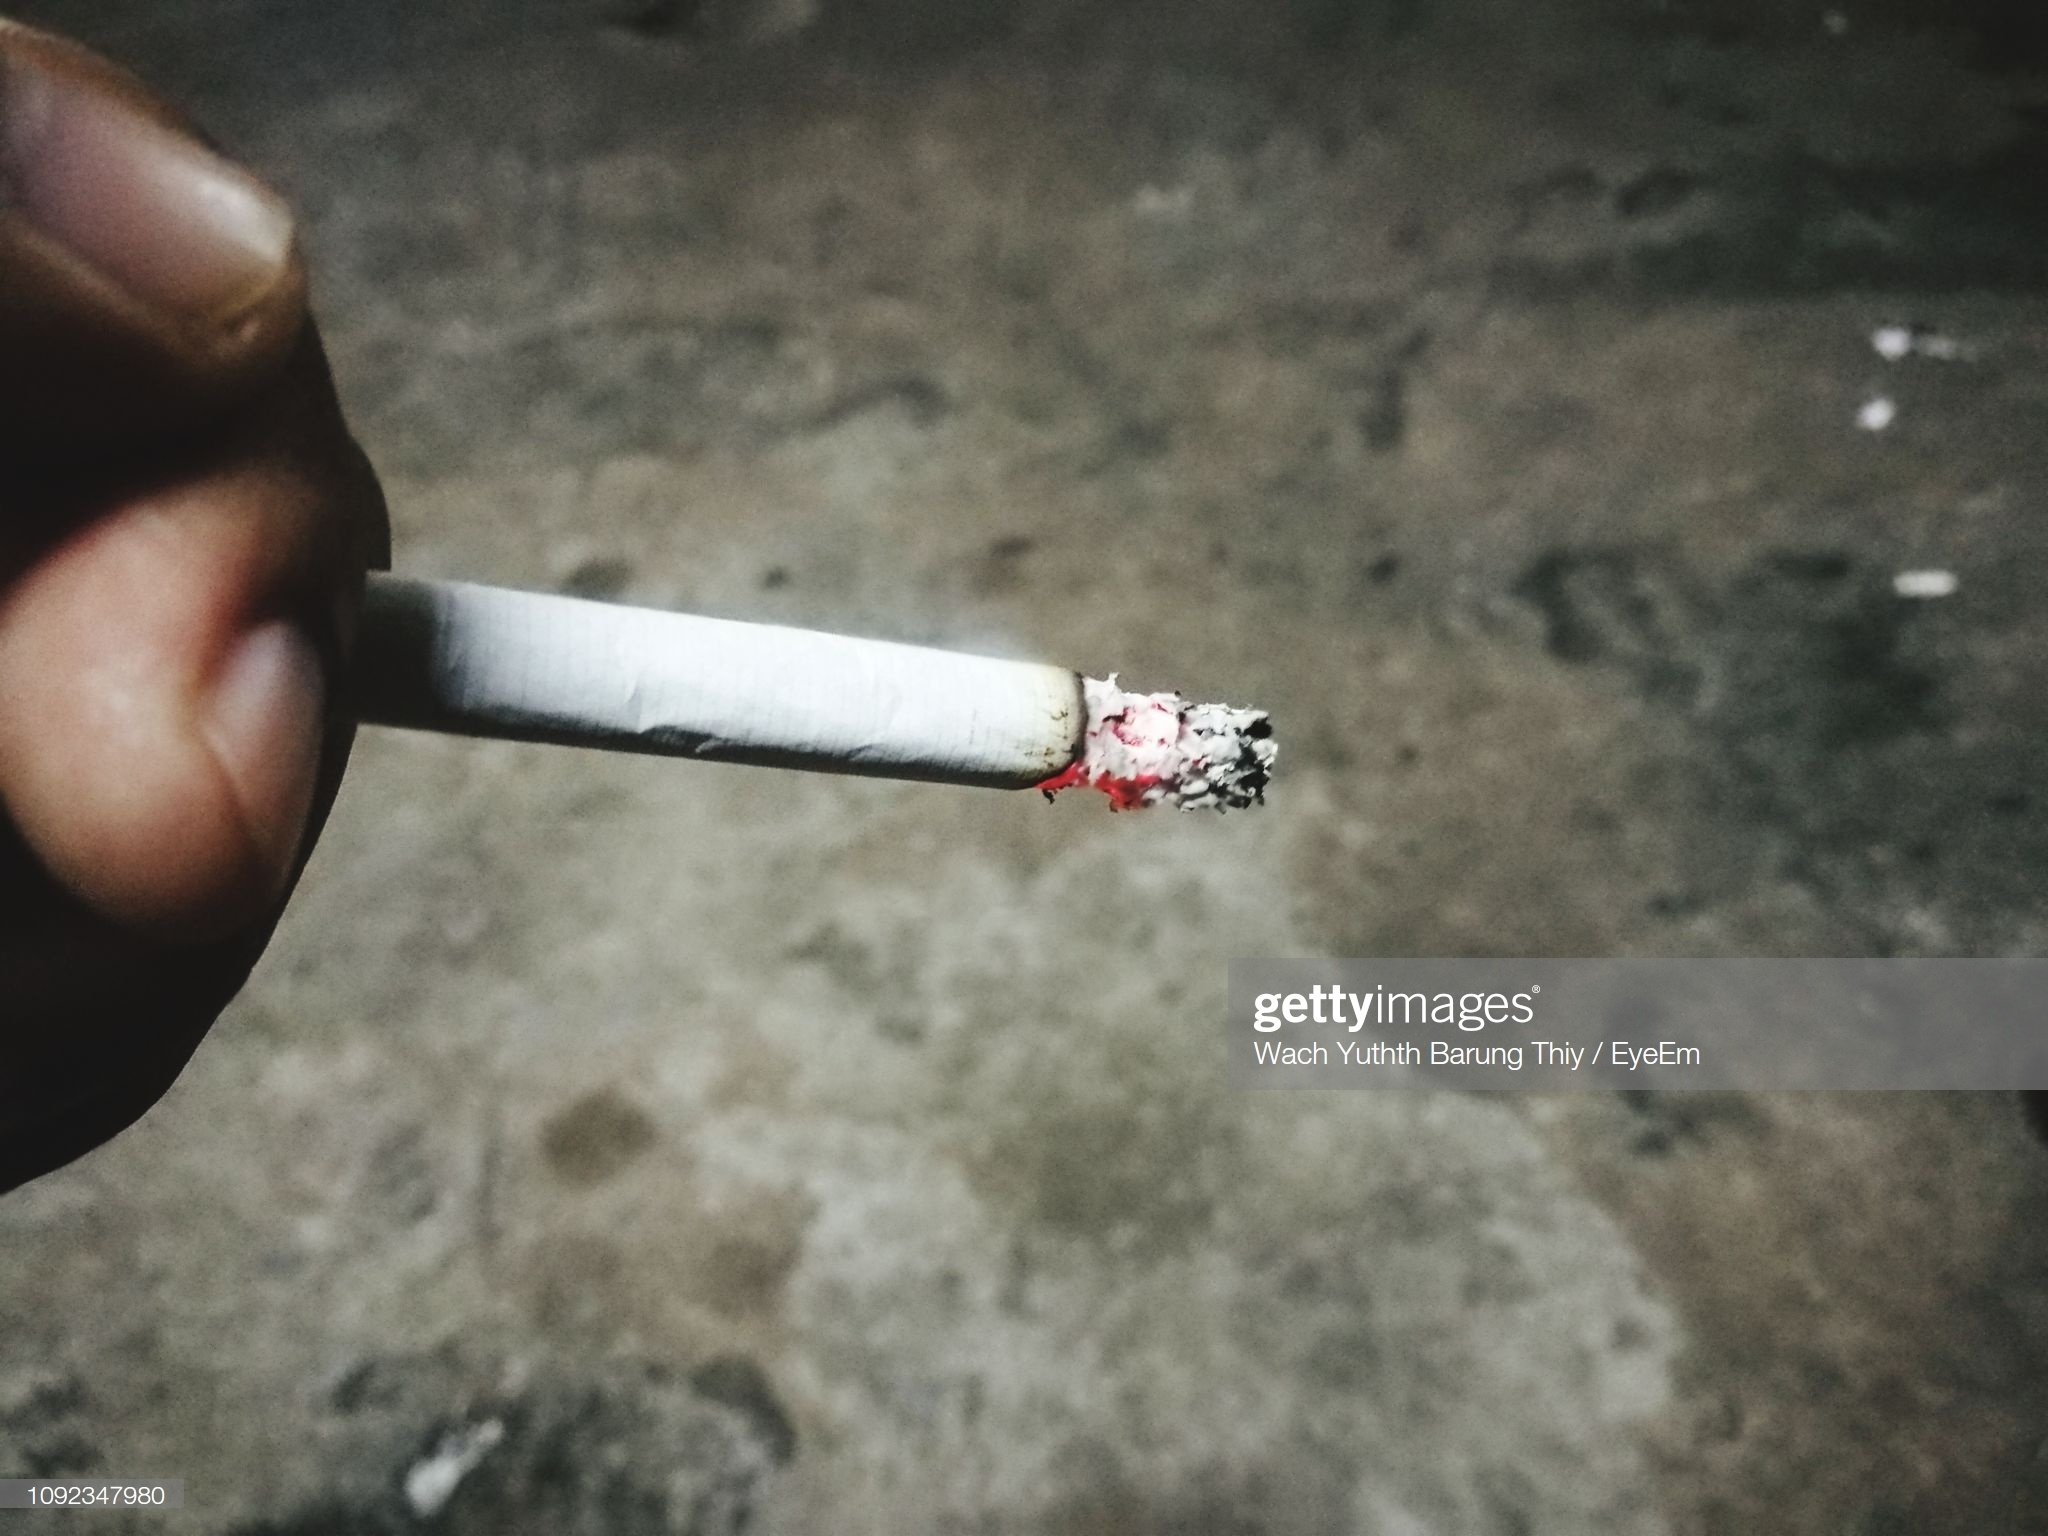sigaretta: (235, 553, 1329, 812)
